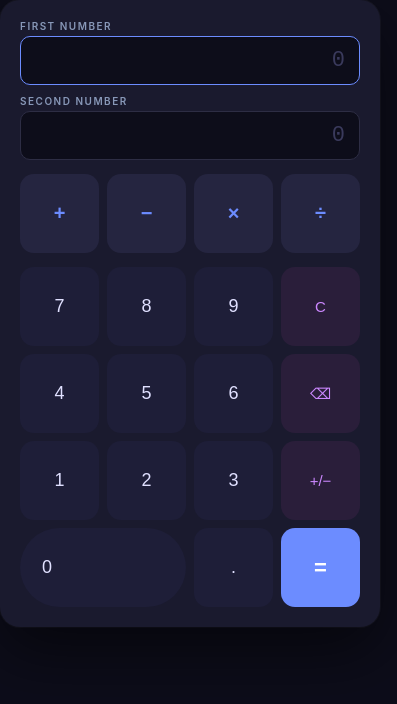
Test: Integration — API error display › renders structured API errors after a failed request
Type "5" into the field with test id "first-input" at [190, 60], box left=20, top=36, right=360, bottom=85
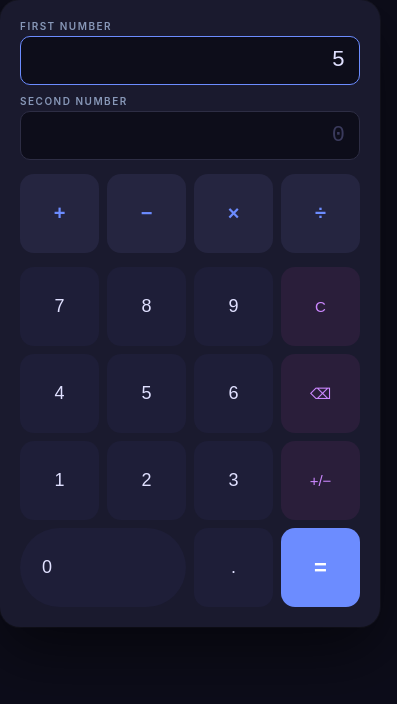
Click the button with test id "op-add" at [60, 214], box left=20, top=174, right=99, bottom=253
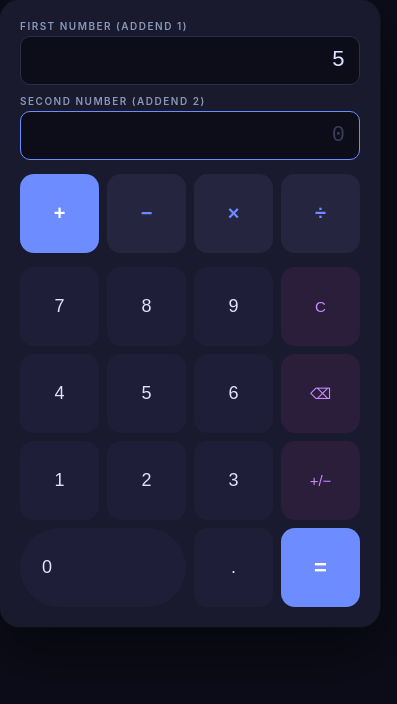
Type "3" into the field with test id "second-input" at [190, 136], box left=20, top=111, right=360, bottom=160
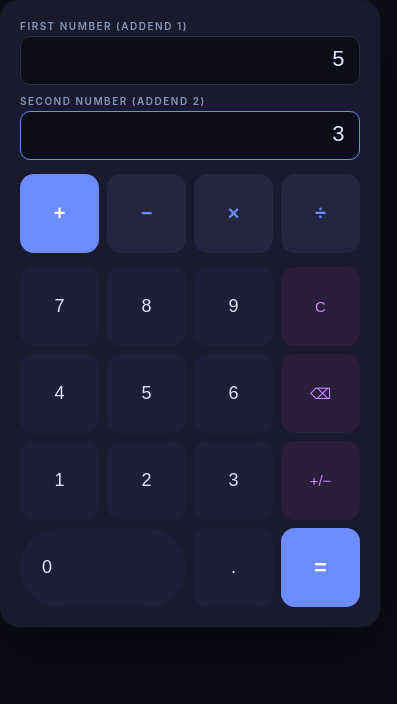
Click the button with test id "equals-btn" at [320, 568], box left=281, top=528, right=360, bottom=607
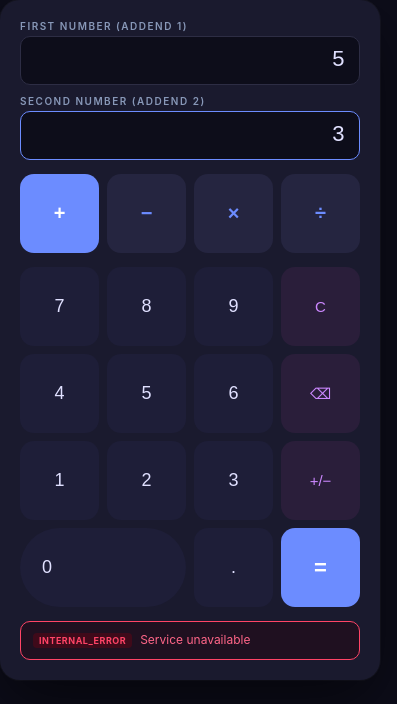
Check: the text "INTERNAL_ERROR" is shown, box left=33, top=633, right=132, bottom=648
Check: the text "Service unavailable" is shown, box left=140, top=632, right=250, bottom=649
